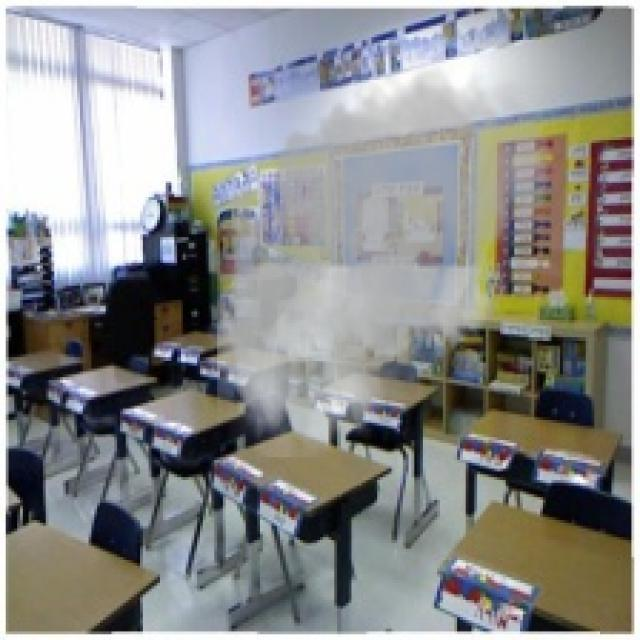Smoke: (202, 52, 558, 457)
